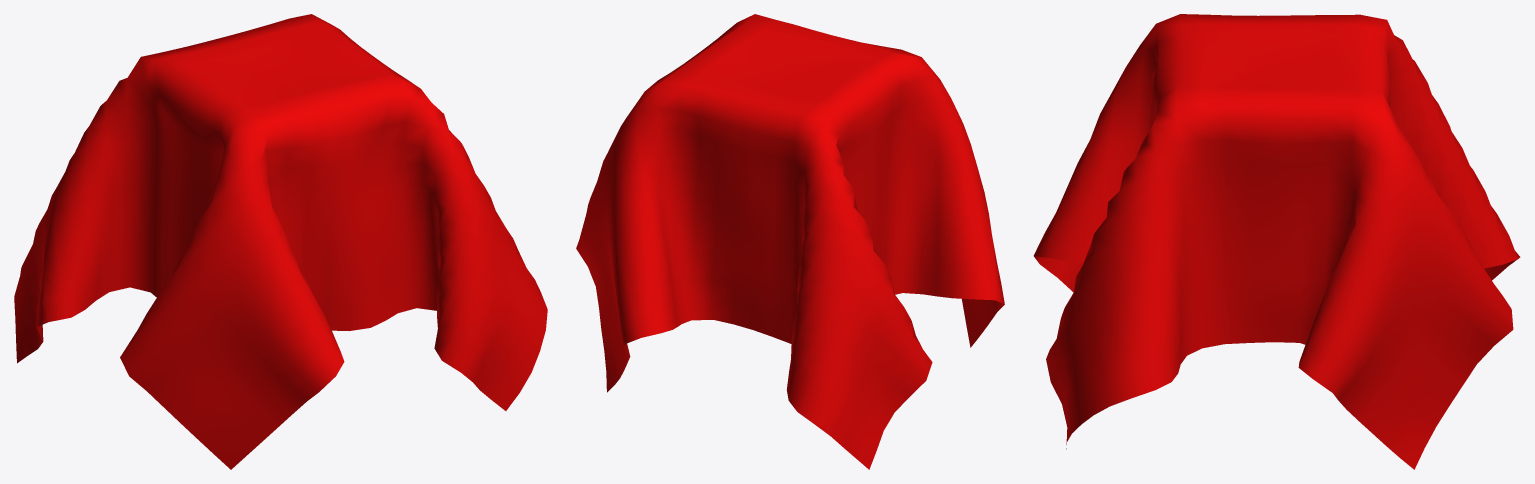
The model's file is tableCloth1.fbx.
3 views of the same model, side by side, from view 1: azimuth 30°, elevation 25°; view 2: azimuth 150°, elevation 25°; view 3: azimuth 270°, elevation 25° (orthographic). The views are drawn at different scales.
Parts seen in each view (by area): view 1: pPlane1; view 2: pPlane1; view 3: pPlane1.
Boxes of the visible parts, x1,y1,x2,y2 form: pPlane1: [14, 14, 547, 469]; pPlane1: [576, 14, 1004, 469]; pPlane1: [1033, 14, 1520, 469].
Size of the model in its own units: 20.75 by 16.62 by 20.95.
